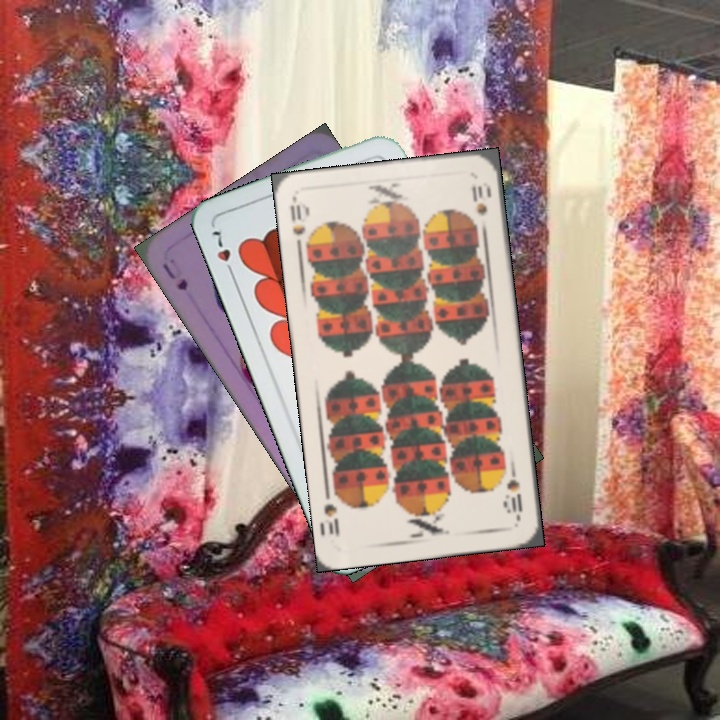H7: (207, 224, 238, 280)
S10: (286, 196, 314, 256), (502, 463, 525, 522)
SU: (158, 258, 191, 293)
